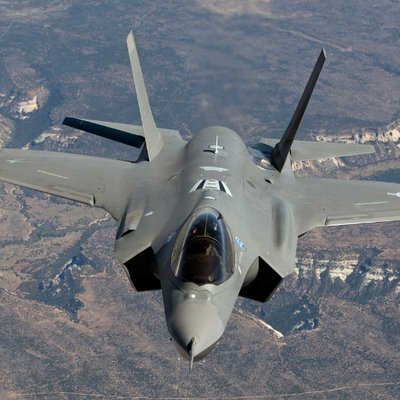F-35 Lightning: (22, 26, 385, 383)
